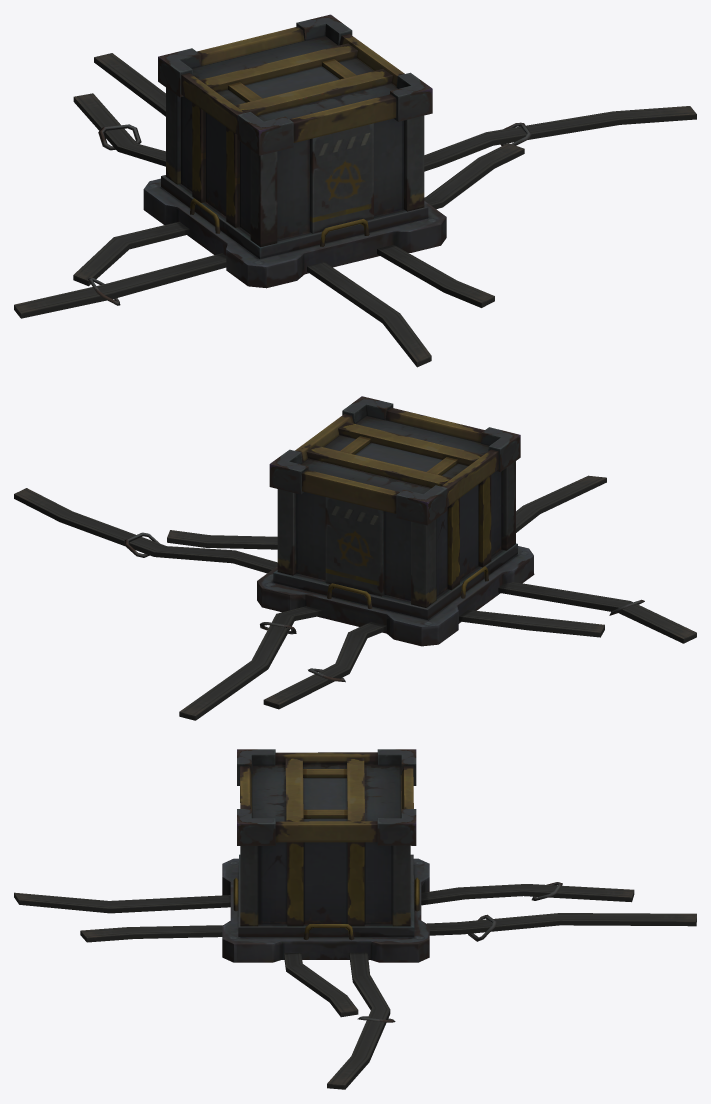
Rendered from WMAirdrop1.FBX.
3 renders of one model, top to bottom at view 1: azimuth 30°, elevation 25°; view 2: azimuth 150°, elevation 25°; view 3: azimuth 270°, elevation 25°, orthographic. The views are drawn at different scales.
Parts seen in each view (by area): view 1: WMAirdrop1; view 2: WMAirdrop1; view 3: WMAirdrop1.
Boxes of the visible parts, bbox=[...] form: WMAirdrop1: bbox=[14, 14, 696, 367]; WMAirdrop1: bbox=[14, 396, 696, 720]; WMAirdrop1: bbox=[14, 749, 696, 1089].
Size of the model in its own units: 1.32 by 0.271 by 1.25.
1 material, 1 textured.
